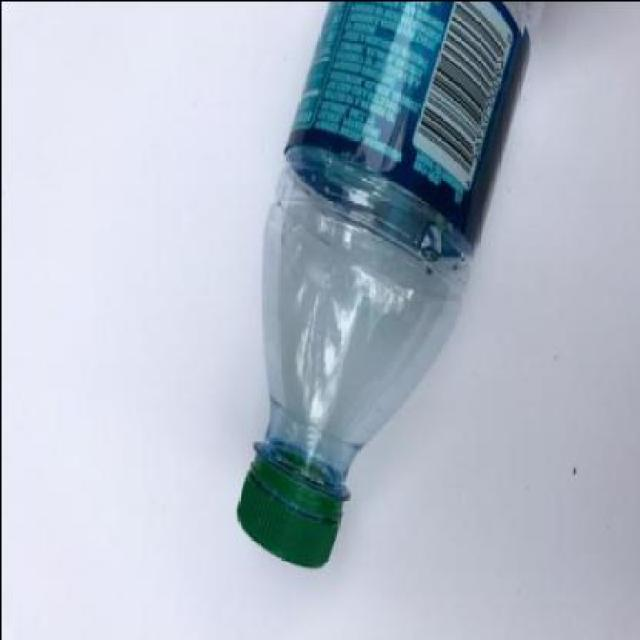PLASTIC: (235, 2, 539, 570), (282, 2, 528, 258), (234, 452, 343, 568)
